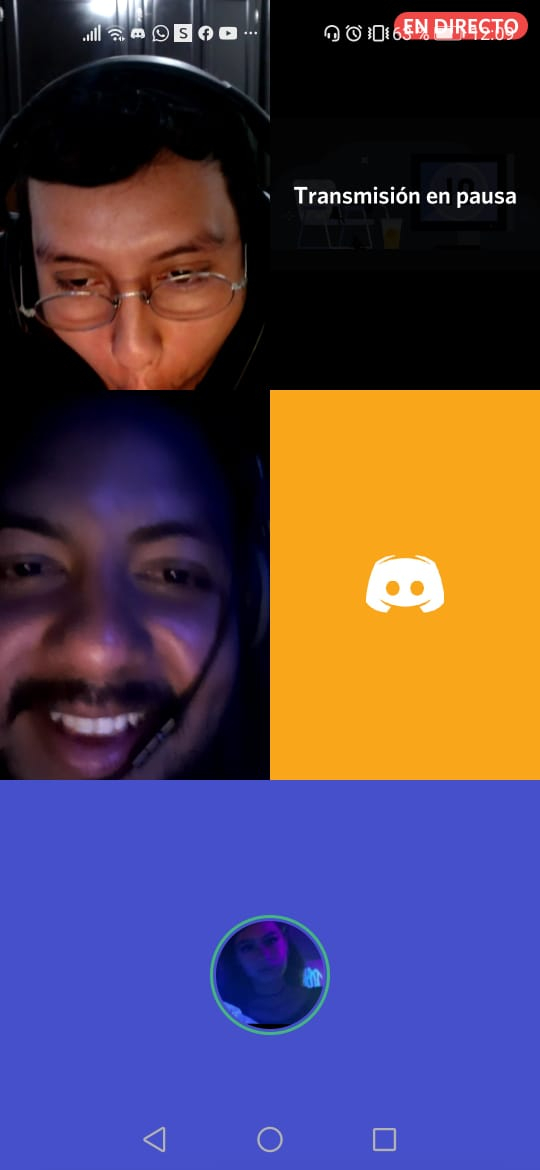Yoshi: (1, 409, 240, 771)
